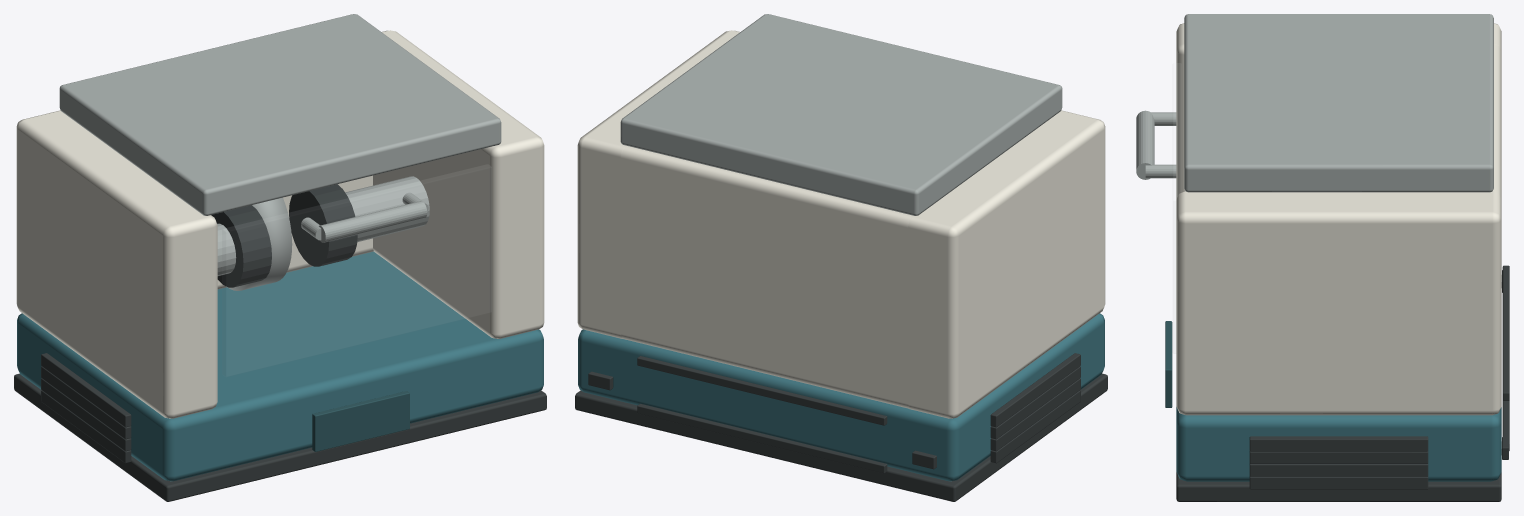
Rendered from optician-and-optical-lens-workshop-optician-and-optica-fae47092__31694.glb.
The picture shows the model from 3 angles, left to right: view 1: azimuth 30°, elevation 25°; view 2: azimuth 150°, elevation 25°; view 3: azimuth 270°, elevation 25°; orthographic projection. The views are drawn at different scales.
Visible parts, largest first — view 1: optician-and-optical-lens-workshop-lens-edger; view 2: optician-and-optical-lens-workshop-lens-edger; view 3: optician-and-optical-lens-workshop-lens-edger.
Part boxes in pixels (x1=…): optician-and-optical-lens-workshop-lens-edger: x1=14, y1=14, x2=546, y2=501; optician-and-optical-lens-workshop-lens-edger: x1=575, y1=14, x2=1107, y2=501; optician-and-optical-lens-workshop-lens-edger: x1=1136, y1=14, x2=1509, y2=501.
Size of the model in its own units: 0.622 by 0.45 by 0.4825.
